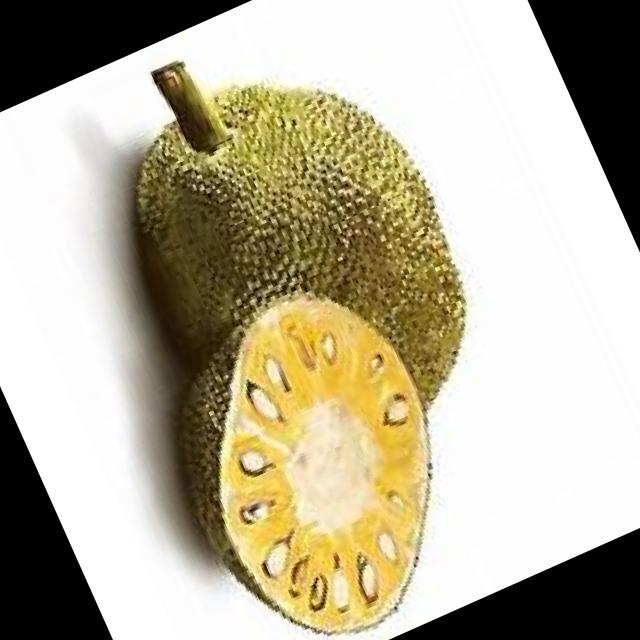Fruit: (50, 0, 527, 476)
